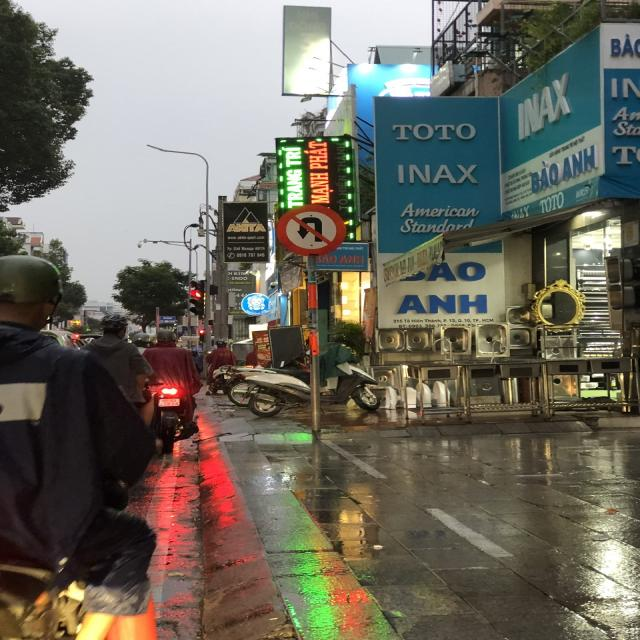Bien bao cam quay dau xe: (274, 202, 352, 257)
